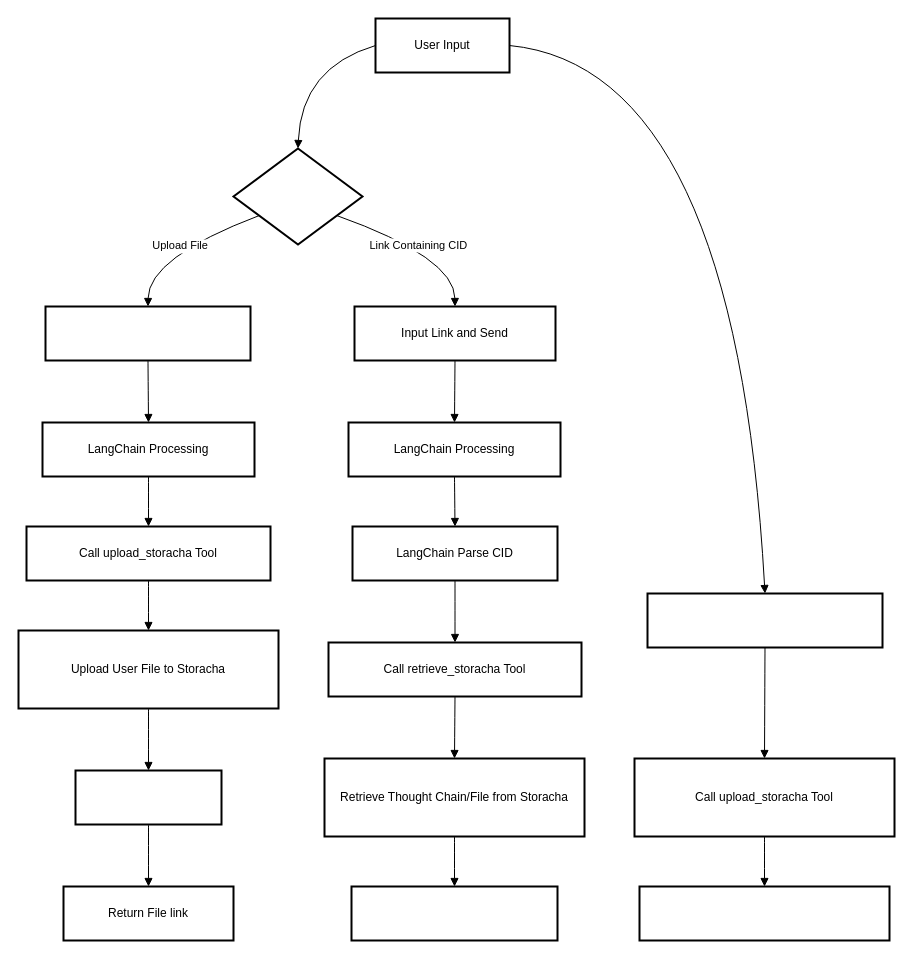
The diagram is 912 pixels wide and 958 high, and some of its shapes have lost their labels. The centre of each missing label's shape, as x and y in pixels:
AI Process and Reply: point (454, 913)
Generate Thought Chain: point (764, 620)
Get File CID: point (148, 797)
Input Type: point (297, 196)
Return Thought Chain Link: point (764, 913)
Select File and Send: point (147, 333)
